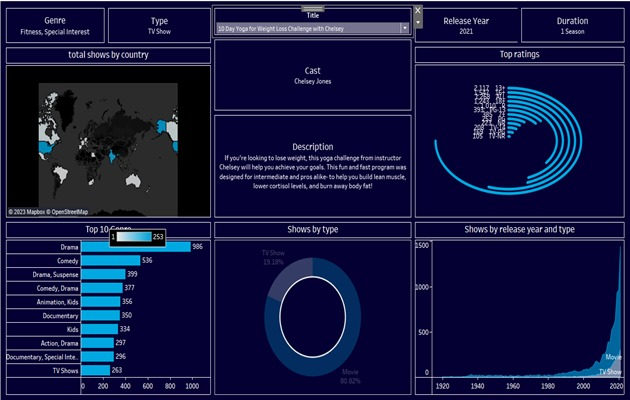

This screenshot's page, from the dashboard's own definition file:
{"tool":"tableau","page":{"name":"Dashboard 1","canvas":[1350,700],"ordinal":0},"visuals":[{"type":"worksheet","title":"Genre","mark":"Automatic","box":[8,8,219.2,69]},{"type":"worksheet","title":"Type","mark":"Automatic","box":[227.2,8,227.8,69]},{"type":"filter","title":"Description","param":"[federated.1f5dim015x4kje16u3r4b1fnjlrj].[none:title:nk]","box":[455,8,430,55]},{"type":"worksheet","title":"Release year","mark":"Automatic","box":[885,8,228.5,68]},{"type":"worksheet","title":"Duration","mark":"Automatic","box":[1113.5,8,228.5,68]},{"type":"worksheet","title":"cast","mark":"Automatic","box":[455,63,430,132]},{"type":"worksheet","title":"Top ratings","mark":"Line","box":[885,76,457,306]},{"type":"worksheet","title":"total shows by country","mark":"Multipolygon","box":[8,77,447,305]},{"type":"worksheet","title":"Description","mark":"Automatic","box":[455,195,430,187]},{"type":"worksheet","title":"Top 10 Genre","mark":"Automatic","rows":["listed_in"],"cols":["show_id"],"box":[8,382,446.9,310]},{"type":"worksheet","title":"Shows by type","mark":"Pie","rows":["Calculation_86975781776039951","Calculation_86975781776039951"],"box":[454.9,382,430.1,310]},{"type":"worksheet","title":"Shows by release year and type","mark":"Area","rows":["show_id"],"cols":["release_year"],"box":[885,382,457,310]},{"type":"legend","title":"total shows by country","param":"[federated.1f5dim015x4kje16u3r4b1fnjlrj].[ctd:show_id:qk]","box":[233.4,398.1,121.9,32.4]}]}

Visuals, with their boxes in screenshot pixels (x1, y1, x2, y2):
"Genre" worksheet: x1=5, y1=46, x2=106, y2=78
"Type" worksheet: x1=106, y1=46, x2=211, y2=78
"Description" filter: x1=211, y1=46, x2=409, y2=72
"Release year" worksheet: x1=409, y1=46, x2=514, y2=78
"Duration" worksheet: x1=514, y1=46, x2=619, y2=78
"cast" worksheet: x1=211, y1=72, x2=409, y2=132
"Top ratings" worksheet (Line marks): x1=409, y1=78, x2=619, y2=218
"total shows by country" worksheet (Multipolygon marks): x1=5, y1=78, x2=211, y2=218
"Description" worksheet: x1=211, y1=132, x2=409, y2=218
"Top 10 Genre" worksheet: x1=5, y1=218, x2=211, y2=361
"Shows by type" worksheet (Pie marks): x1=211, y1=218, x2=409, y2=361
"Shows by release year and type" worksheet (Area marks): x1=409, y1=218, x2=619, y2=361
"total shows by country" legend: x1=109, y1=226, x2=165, y2=241
